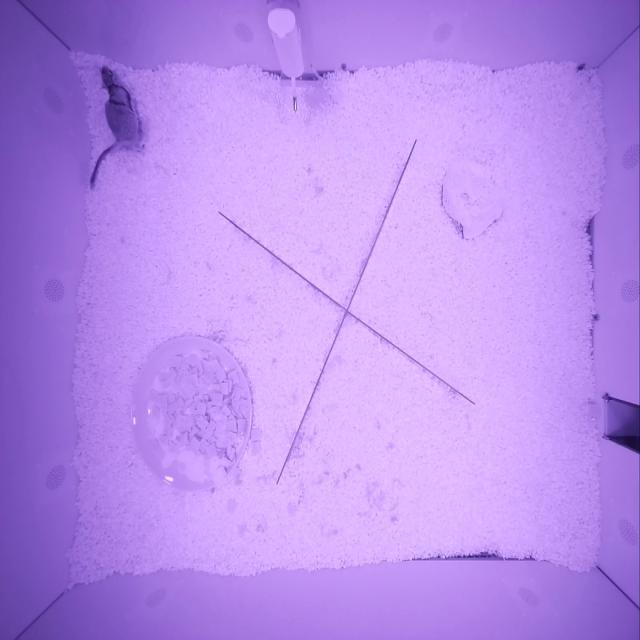adult_front: (101, 64, 138, 145)
